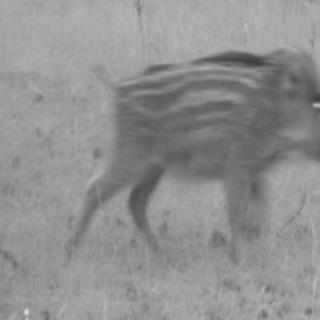Pig: (76, 45, 320, 259)
